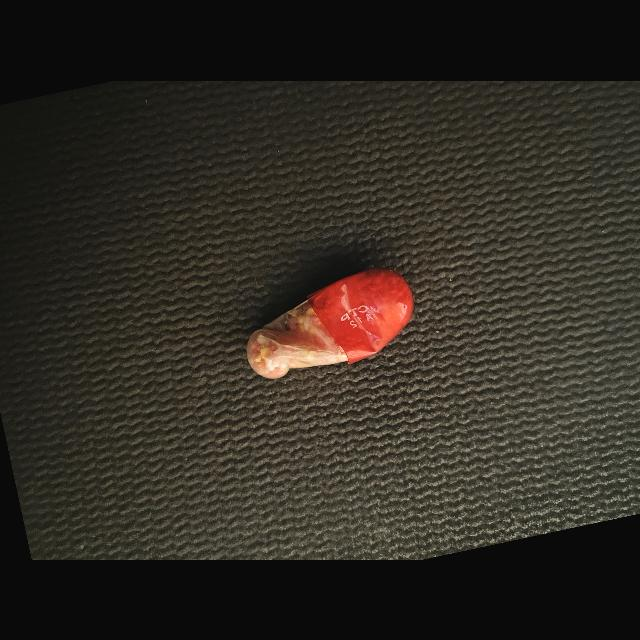Defective Capsule: (247, 269, 414, 378)
